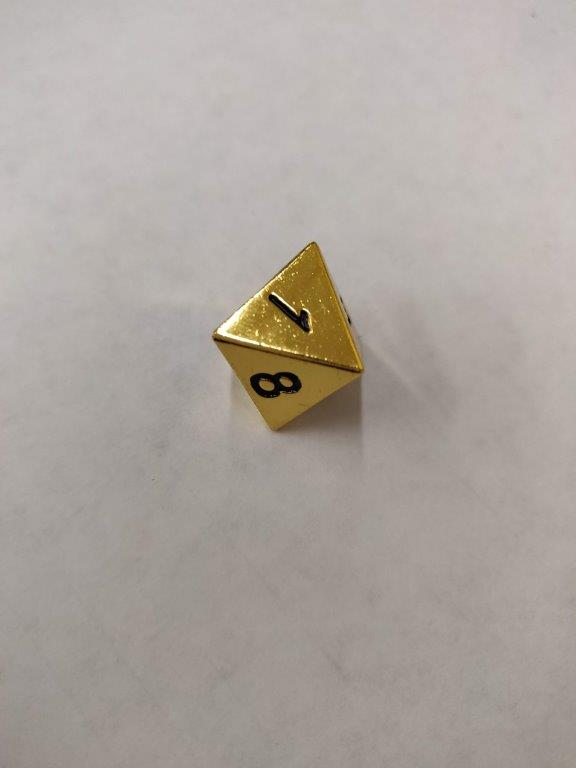d8-1: (210, 239, 367, 432)
